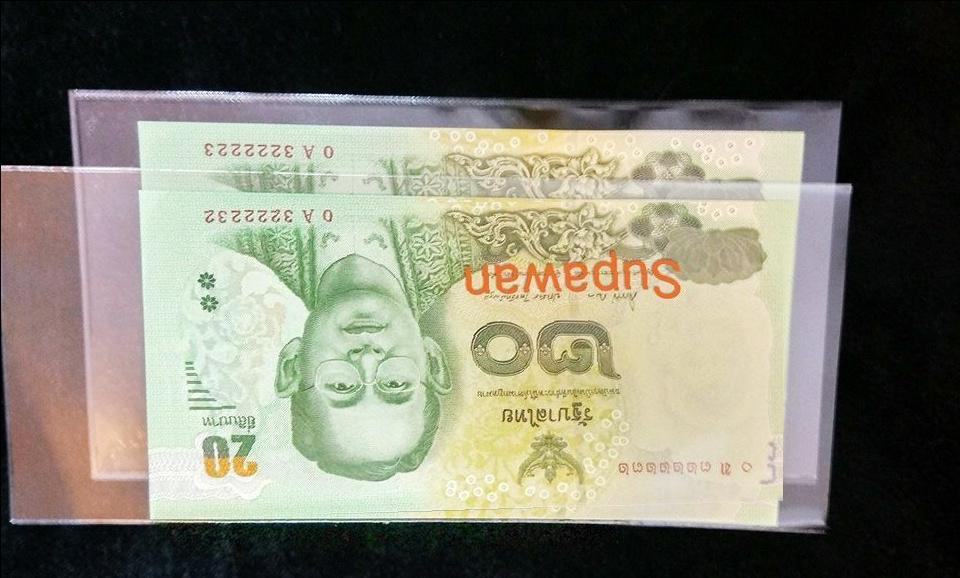20BahtTai: (157, 202, 783, 519)
